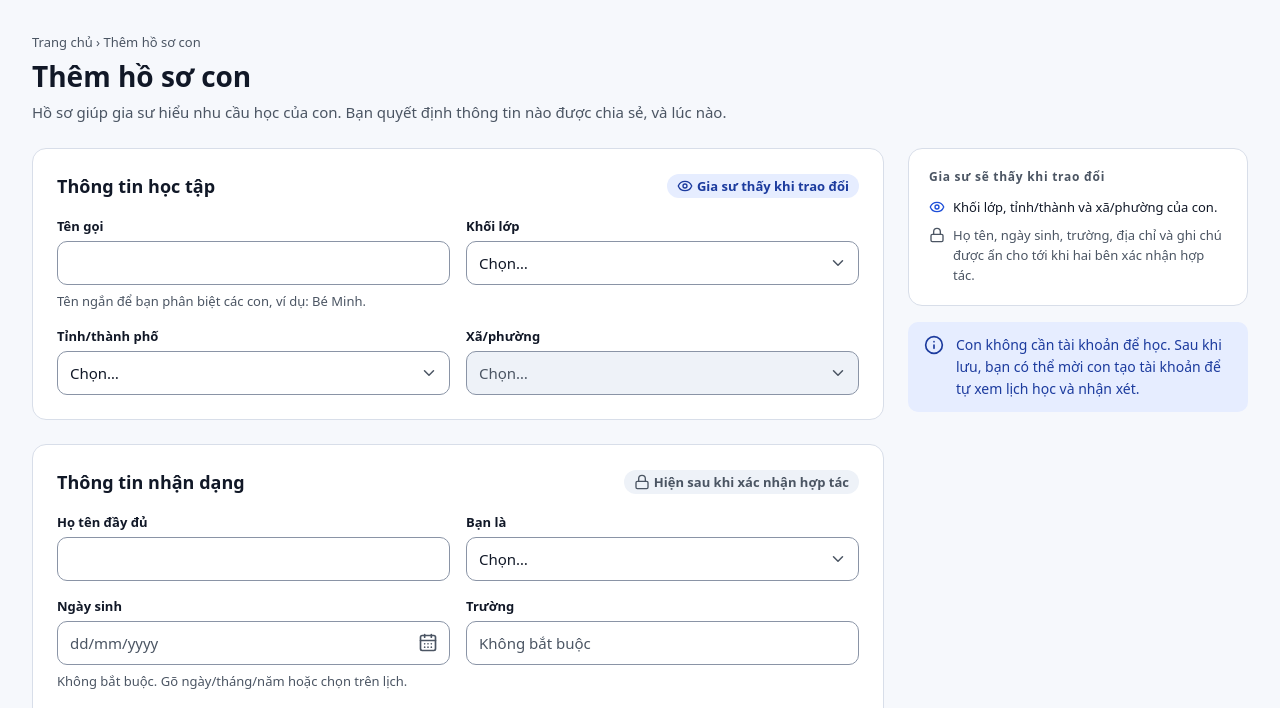
Scenario: date field › accepts a typed date and lets the parent pick another one on the calendar
In the field labelled "Ngày sinh": [254, 643] box x1=57 y1=621 x2=450 y2=665, type "5/9/2014"
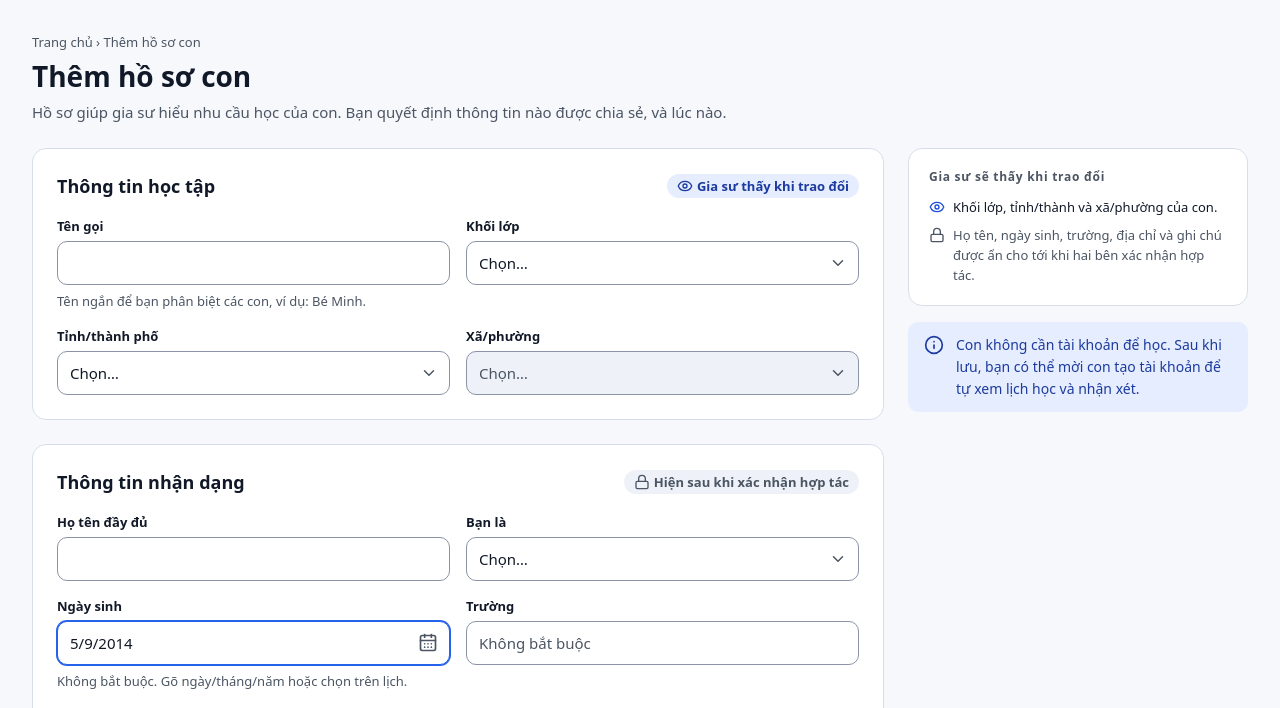
Click the button named "Chọn ngày trên lịch": [428, 643] box x1=406 y1=621 x2=450 y2=665
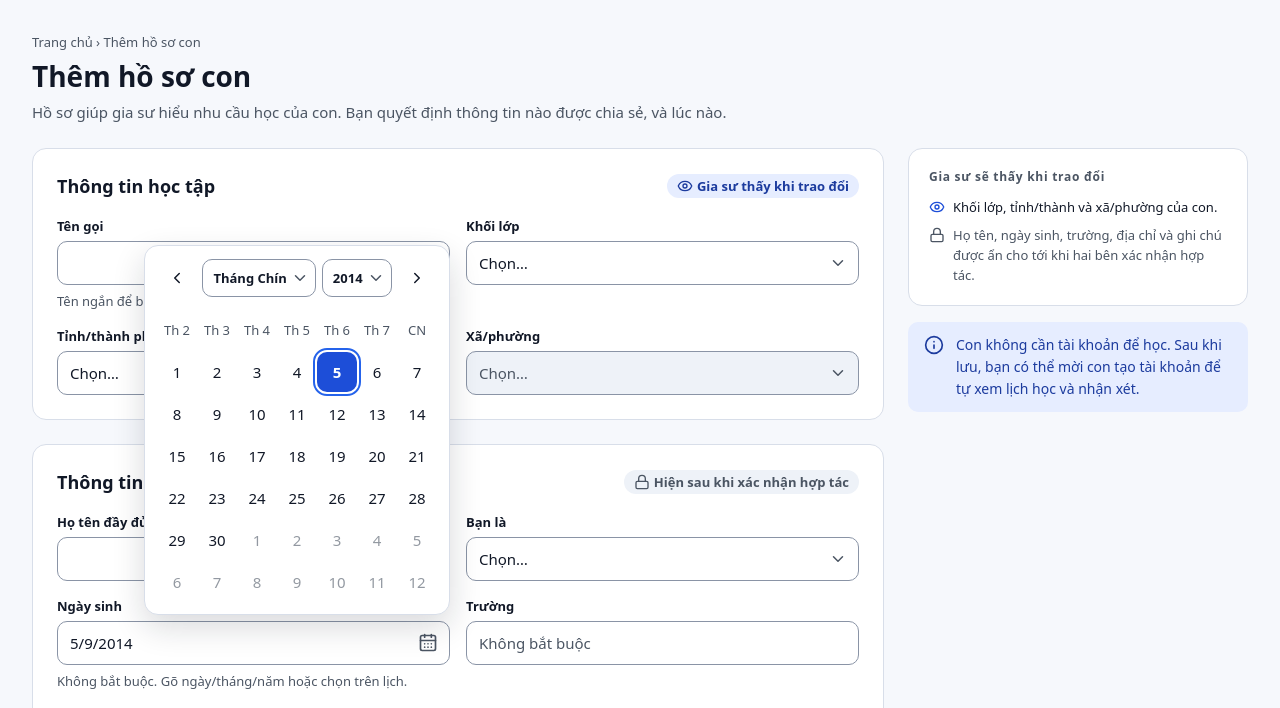
Result: the 1st cell "5" is shown at x1=317 y1=352 x2=357 y2=392
Lịch hiện cả ngày tháng sau (mờ): số "12" đầu tiên là 12/09.
Click the 1st button "12": [337, 414] box x1=317 y1=394 x2=357 y2=434
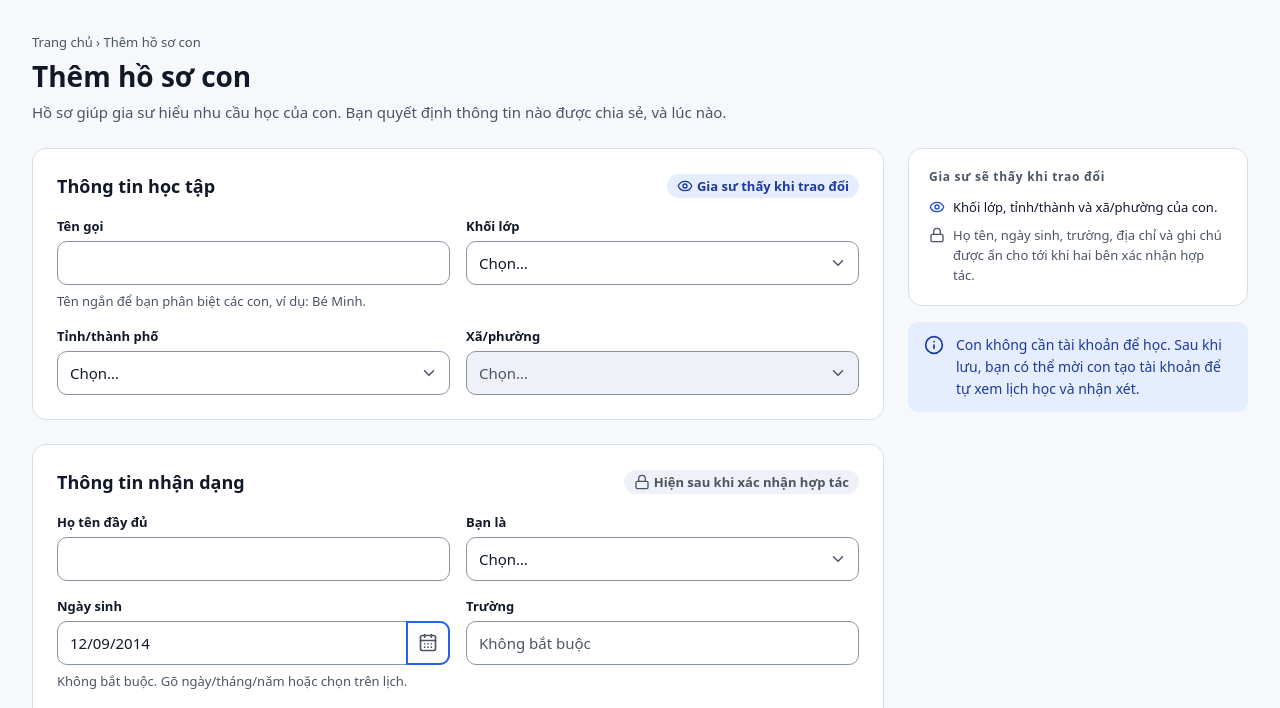
Result: the dialog is gone
Result: the field labelled "Ngày sinh" holds "12/09/2014" at x1=57 y1=621 x2=450 y2=665
